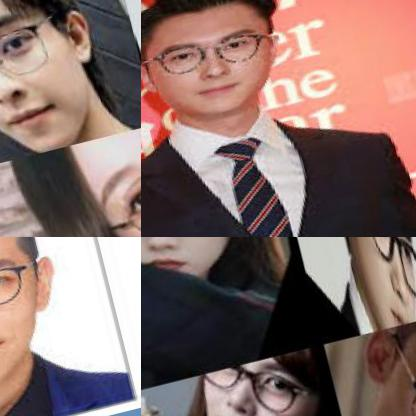Glasses: (0, 0, 89, 120), (183, 347, 328, 415), (58, 124, 140, 236), (332, 237, 415, 323), (349, 315, 415, 415), (141, 237, 243, 278)
glasses: (141, 18, 282, 95), (0, 252, 39, 337)
